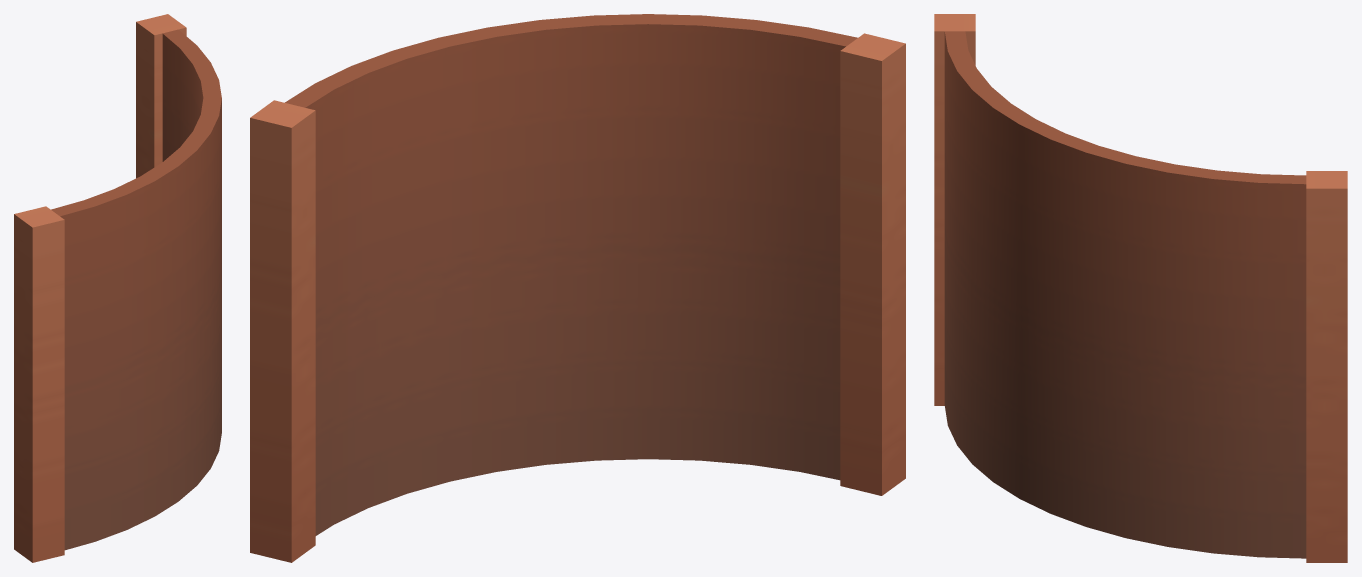
The model's file is wallWoodCurved.fbx.
3 renders of one model, left to right at view 1: azimuth 30°, elevation 25°; view 2: azimuth 150°, elevation 25°; view 3: azimuth 270°, elevation 25°, orthographic. The views are drawn at different scales.
Parts seen in each view (by area): view 1: wallWoodCurved; view 2: wallWoodCurved; view 3: wallWoodCurved.
Boxes of the visible parts, <box> form: wallWoodCurved: <box>14,14,221,562</box>; wallWoodCurved: <box>250,14,905,562</box>; wallWoodCurved: <box>934,14,1347,562</box>.
Bounding box in the file's own units: 1 × 1 × 1.
